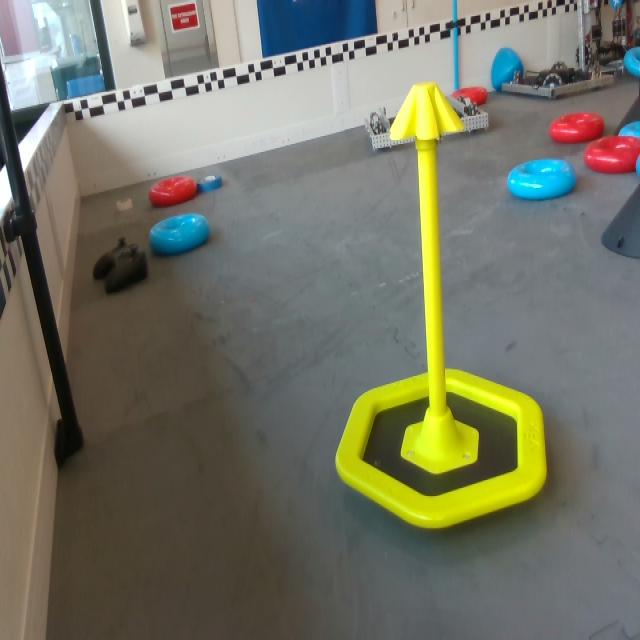Blue-Ring: (506, 159, 578, 204), (148, 213, 213, 259), (195, 170, 227, 192)
Mobile-Goal: (338, 83, 539, 533)
Red-Ring: (586, 132, 639, 175), (548, 112, 612, 147), (148, 176, 197, 207), (459, 89, 486, 103)
Yellow-Stake-Head: (390, 82, 464, 142)
